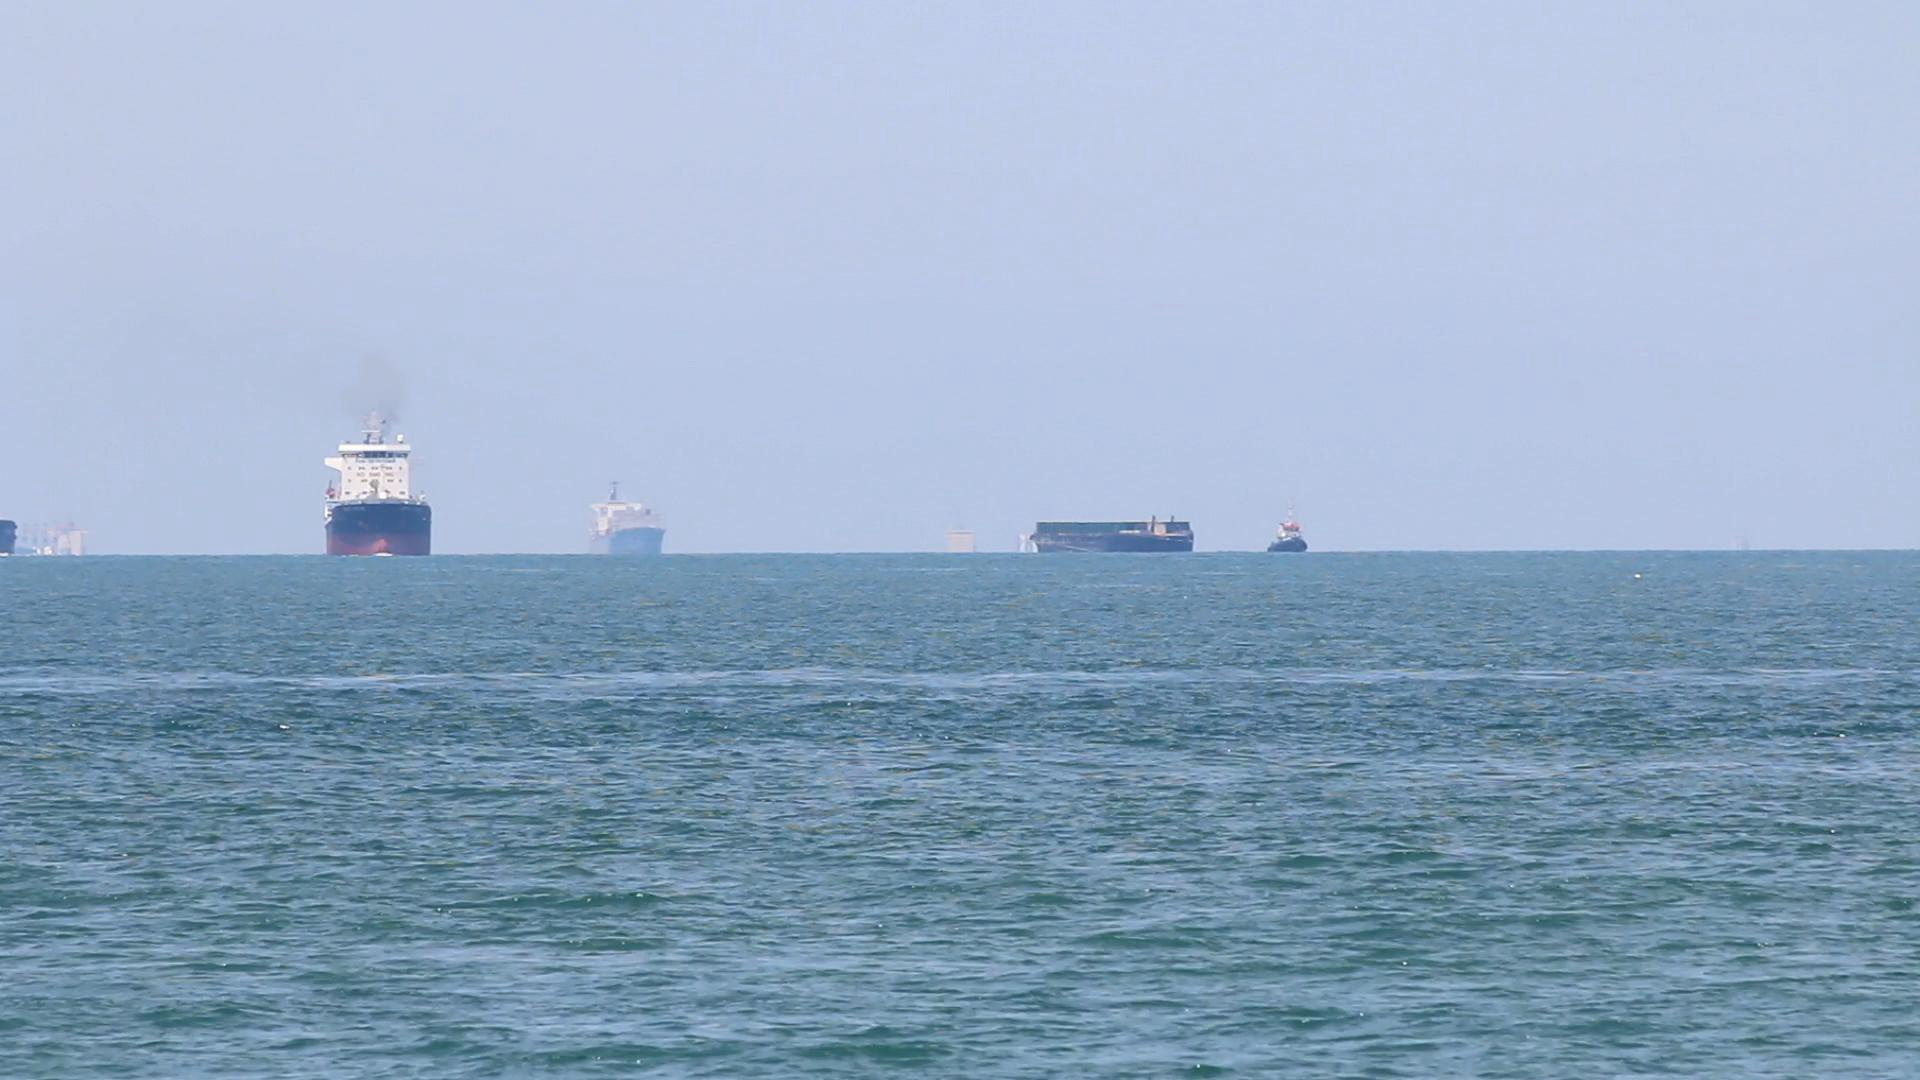Container Ship: (314, 411, 439, 571), (578, 481, 673, 574), (1023, 516, 1199, 563), (1259, 513, 1319, 567)
